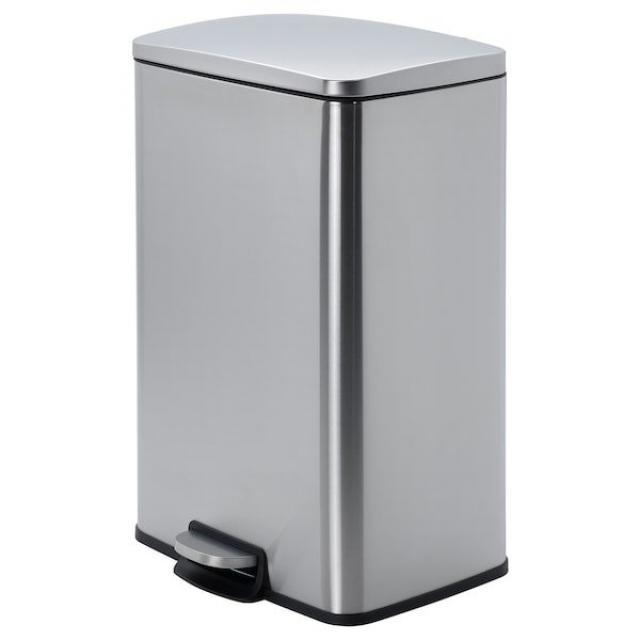Dumpster: (128, 12, 508, 626)
